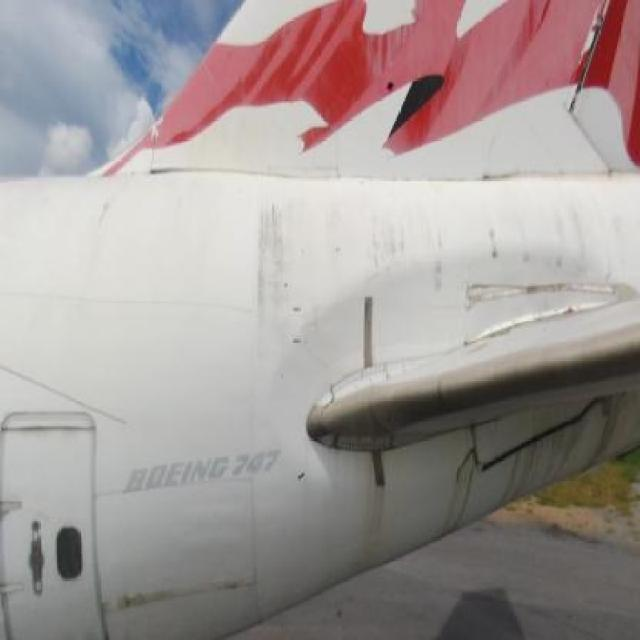Missing-Rivet: (326, 361, 397, 394), (333, 430, 405, 462)
Rust: (470, 184, 630, 278), (317, 188, 455, 292), (244, 183, 311, 332), (503, 408, 594, 504), (350, 447, 392, 568), (462, 278, 607, 311), (442, 434, 486, 538), (111, 577, 180, 623), (300, 298, 351, 351), (210, 572, 264, 596)
